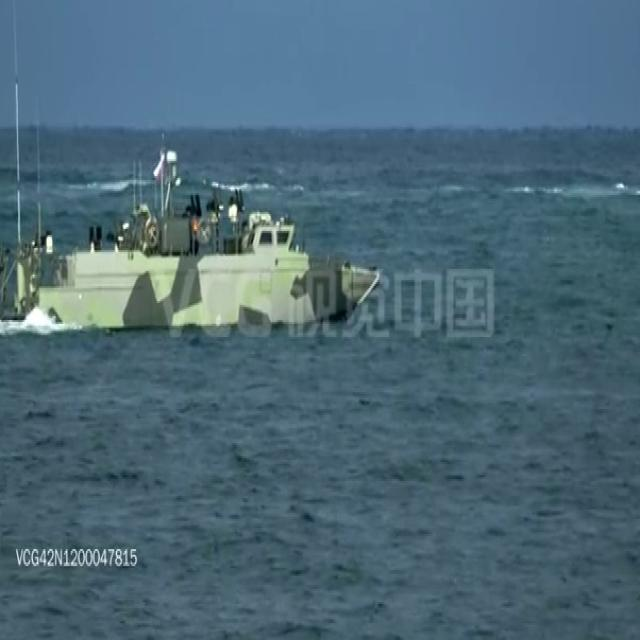houseboat: (0, 138, 380, 341)
